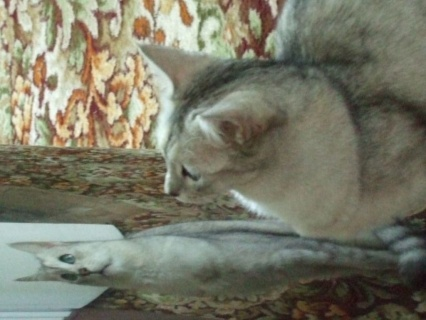Cat: (135, 0, 425, 240)
